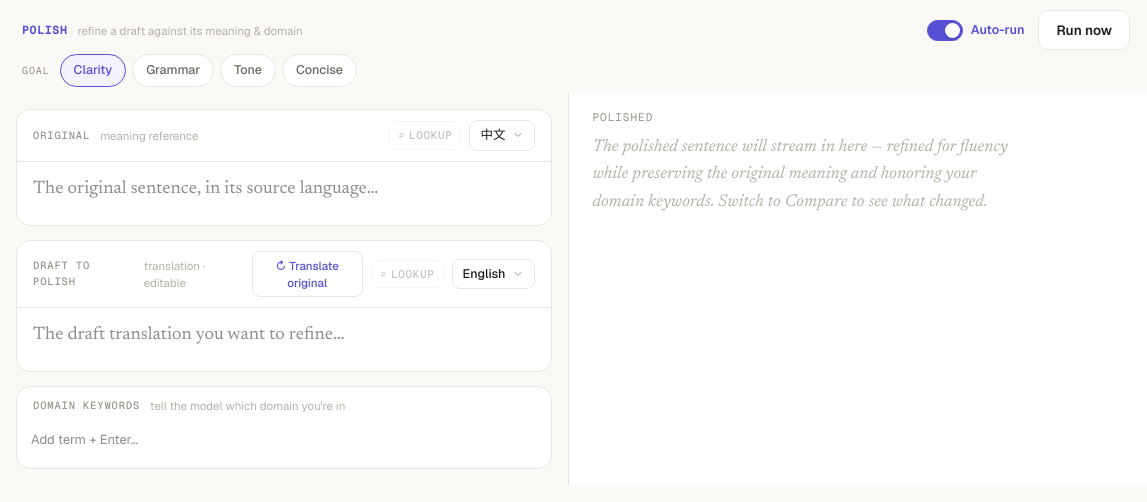
PolishPanel — Clear (feature #23) › does NOT arm an auto-polish on Clear even when auto-run is armed (M1 guard)
The width and height of the screenshot is (1147, 502).
Type "rough draft" into the text box named "Draft to polish" at (189, 336), box left=17, top=308, right=360, bottom=364
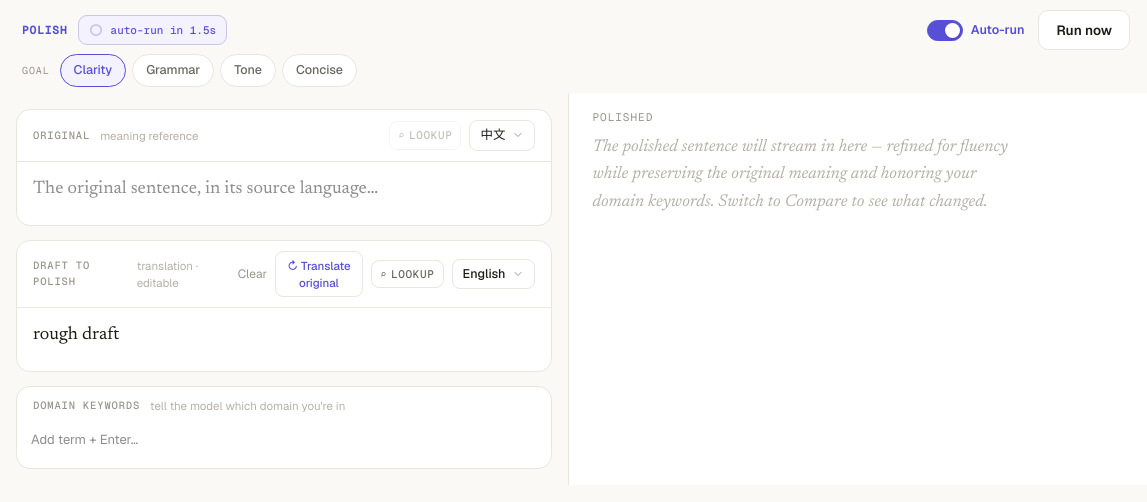
Type "原文" into the text box labelled "original" at (206, 190), box left=17, top=162, right=394, bottom=218
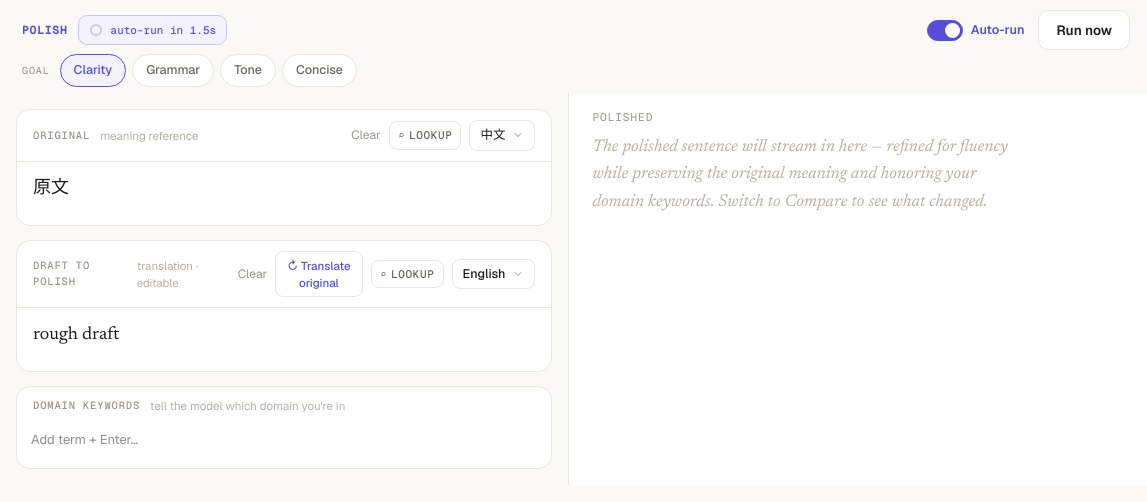
Now the text "auto-run in 1.5s" is shown, box left=110, top=22, right=216, bottom=38
Click the button "Clear" next to "meaning reference" at (366, 135), box left=351, top=126, right=381, bottom=144
Wait 1500 ms
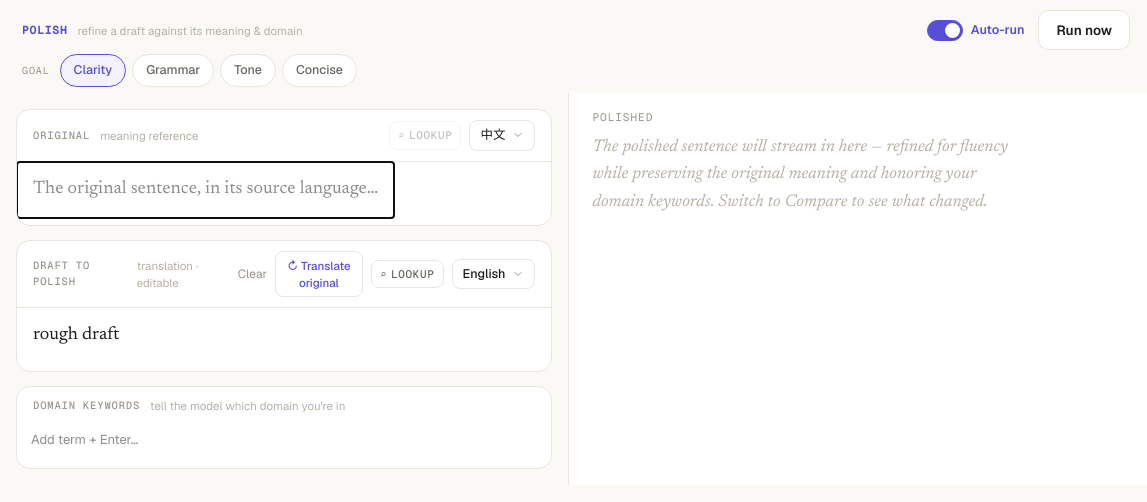
Now the text "auto-run in 1.5s" is gone
Now the text box labelled "original" is empty, box left=17, top=162, right=394, bottom=218
